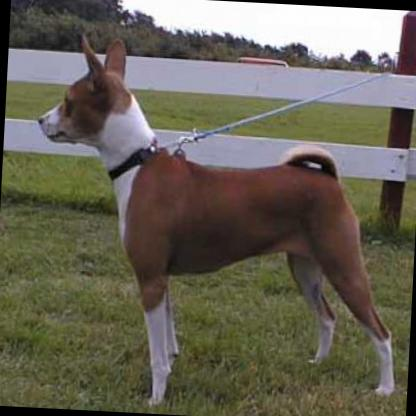basenji: (20, 32, 410, 416)
